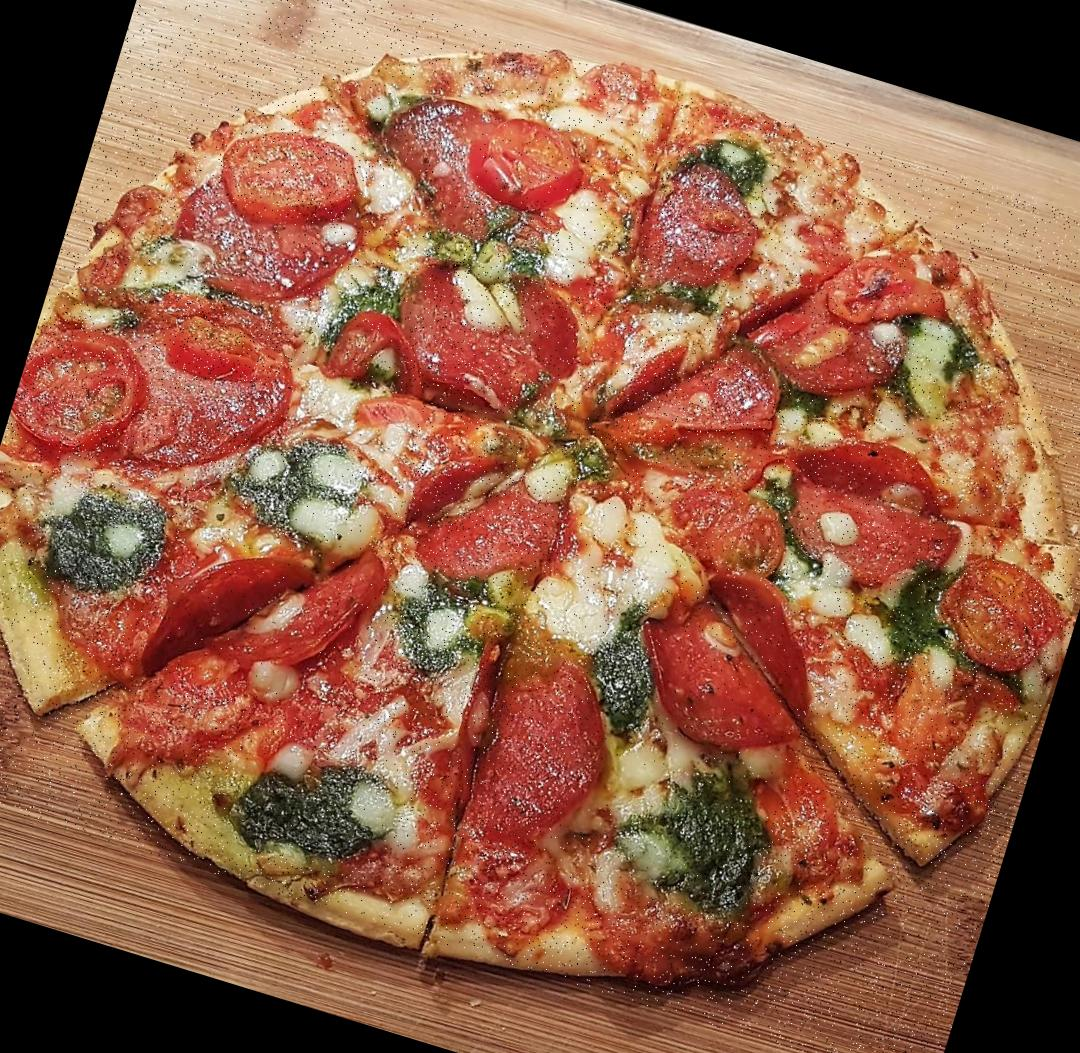Basil: (543, 608, 818, 921), (873, 561, 1062, 719), (225, 731, 412, 882), (231, 420, 400, 557), (34, 467, 183, 599), (307, 255, 426, 394), (869, 305, 984, 422), (444, 198, 566, 302), (672, 116, 777, 196)
Cheese: (534, 494, 684, 666), (270, 364, 424, 512), (320, 714, 452, 840)
Pepperoni: (138, 497, 388, 730), (430, 636, 636, 873), (613, 550, 830, 764), (120, 290, 298, 490), (381, 253, 588, 424), (770, 416, 965, 592), (388, 427, 580, 600), (168, 190, 348, 320), (359, 76, 497, 237), (616, 324, 771, 466), (631, 148, 768, 306), (753, 292, 914, 408)
Pizza: (0, 0, 1080, 1053)
Tomatoes: (5, 304, 154, 463), (207, 102, 370, 234), (940, 546, 1078, 678), (822, 227, 970, 342), (472, 102, 594, 218)
